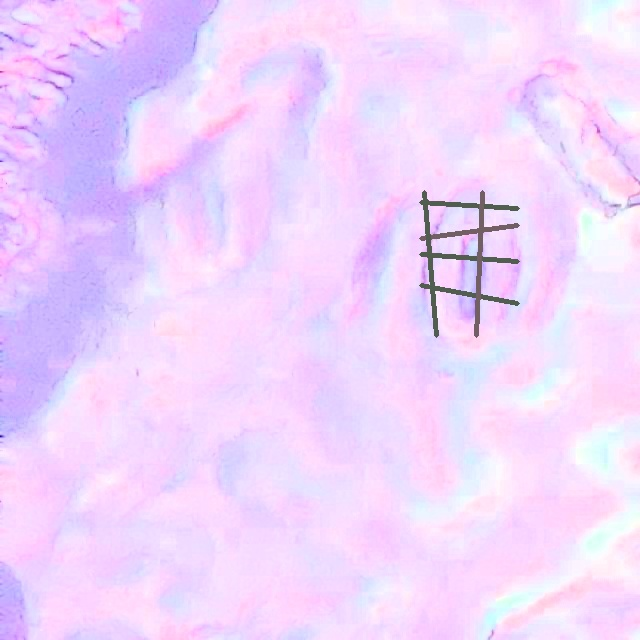open: (419, 190, 519, 337)
